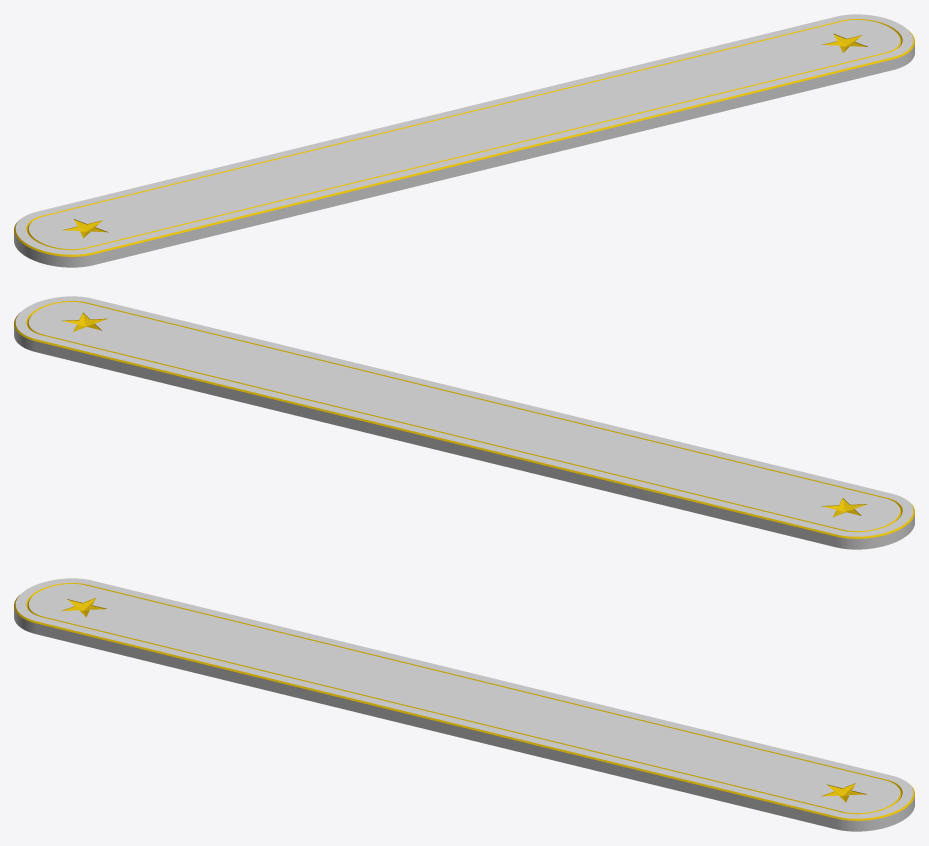
Rendered from The Madaket Millies.glb.
3 views of the same model, one above another, from view 1: azimuth 30°, elevation 25°; view 2: azimuth 150°, elevation 25°; view 3: azimuth 330°, elevation 25° (orthographic).
Parts seen in each view (by area): view 1: 8, BORDERS_curve_.020; view 2: 8, BORDERS_curve_.020; view 3: 8, BORDERS_curve_.020.
Part boxes in pixels (x1,y1,x2,y2): 8: (14, 14, 914, 267); BORDERS_curve_.020: (14, 19, 914, 256); 8: (14, 296, 914, 549); BORDERS_curve_.020: (14, 301, 914, 538); 8: (14, 578, 914, 831); BORDERS_curve_.020: (14, 583, 914, 820).
Size of the model in its own units: 40 by 0.5281 by 4.5.
